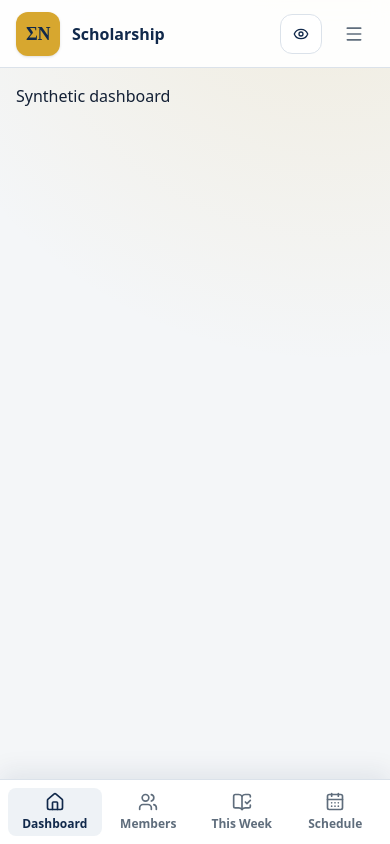
Test: keeps workspace choices and sign-out inside the mobile navigation menu
The width and height of the screenshot is (390, 844).
Click the heading named "Open navigation": (354, 34) left=344, top=24, right=364, bottom=44
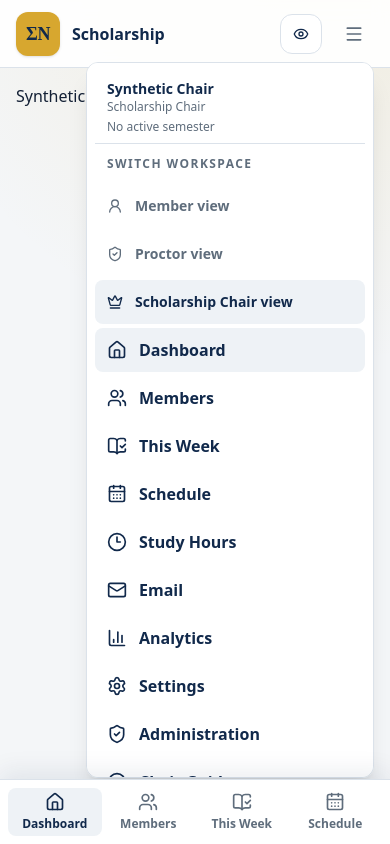
Expected: the link "Member view" is shown, left=107, top=196, right=230, bottom=214
Expected: the link "Proctor view" is shown, left=107, top=244, right=223, bottom=262
Expected: the link "Scholarship Chair view" is shown, left=95, top=280, right=365, bottom=324
